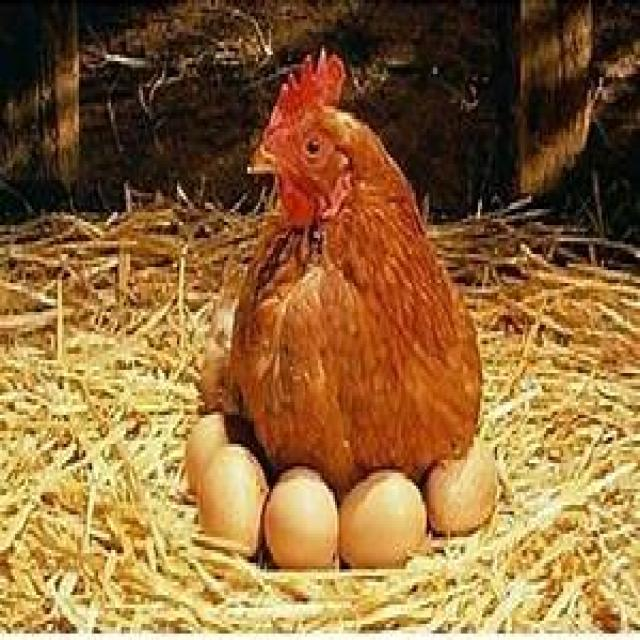hen: (224, 53, 481, 495)
